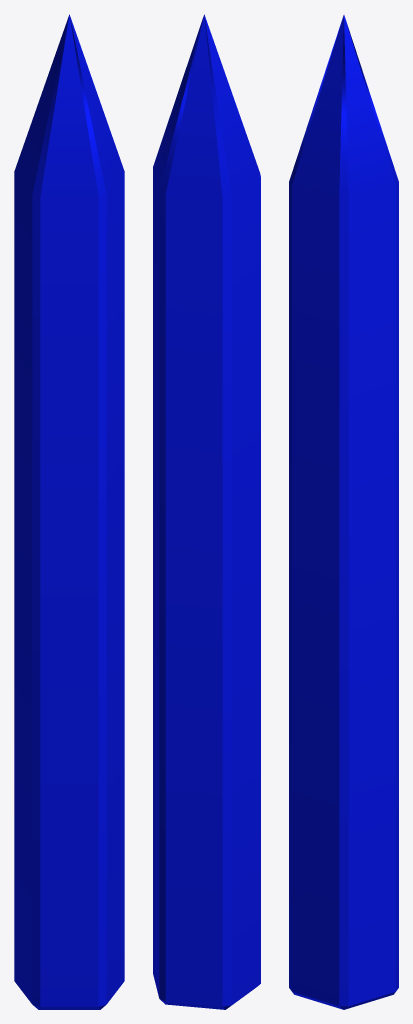
File: Penta_Spear.FBX
The picture shows the model from 3 angles, left to right: view 1: azimuth 90°, elevation 25°; view 2: azimuth 150°, elevation 25°; view 3: azimuth 270°, elevation 25°; orthographic projection.
Visible parts, largest first — view 1: Penta_Spear; view 2: Penta_Spear; view 3: Penta_Spear.
Part boxes in pixels (bbox=[...]): Penta_Spear: bbox=[14, 14, 124, 1009]; Penta_Spear: bbox=[153, 14, 260, 1009]; Penta_Spear: bbox=[289, 15, 398, 1009].
Bounding box in the file's own units: 87.51 × 900 × 92.02.
